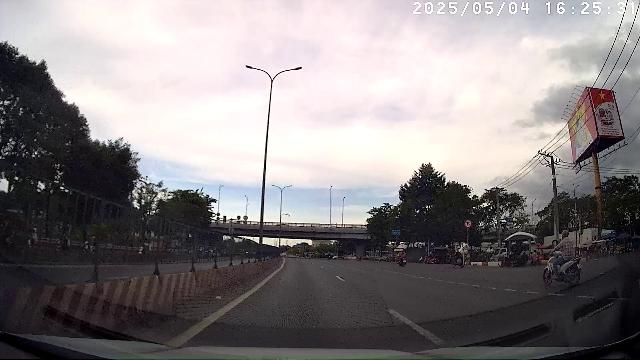123b-cam-re-phai: (463, 219, 473, 228)
